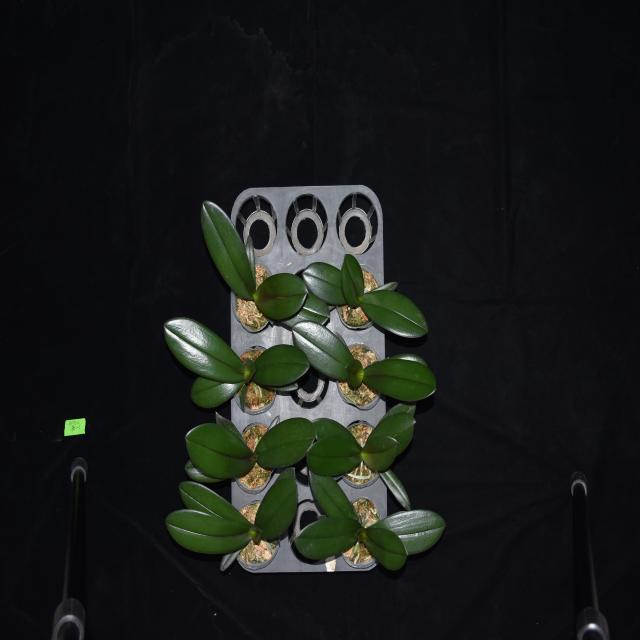leaf: (162, 322, 245, 380), (202, 200, 252, 296), (165, 506, 253, 556), (180, 481, 254, 539), (362, 354, 437, 407), (296, 324, 360, 385), (185, 430, 257, 480), (367, 506, 448, 550), (363, 298, 428, 346), (311, 470, 359, 530), (253, 418, 316, 462), (299, 518, 361, 558), (255, 272, 307, 318), (302, 264, 356, 307), (256, 482, 296, 540), (254, 348, 310, 389), (260, 295, 329, 326), (192, 367, 252, 402), (372, 410, 417, 453), (308, 438, 362, 470), (369, 531, 408, 569), (364, 432, 401, 465), (342, 256, 365, 307)
